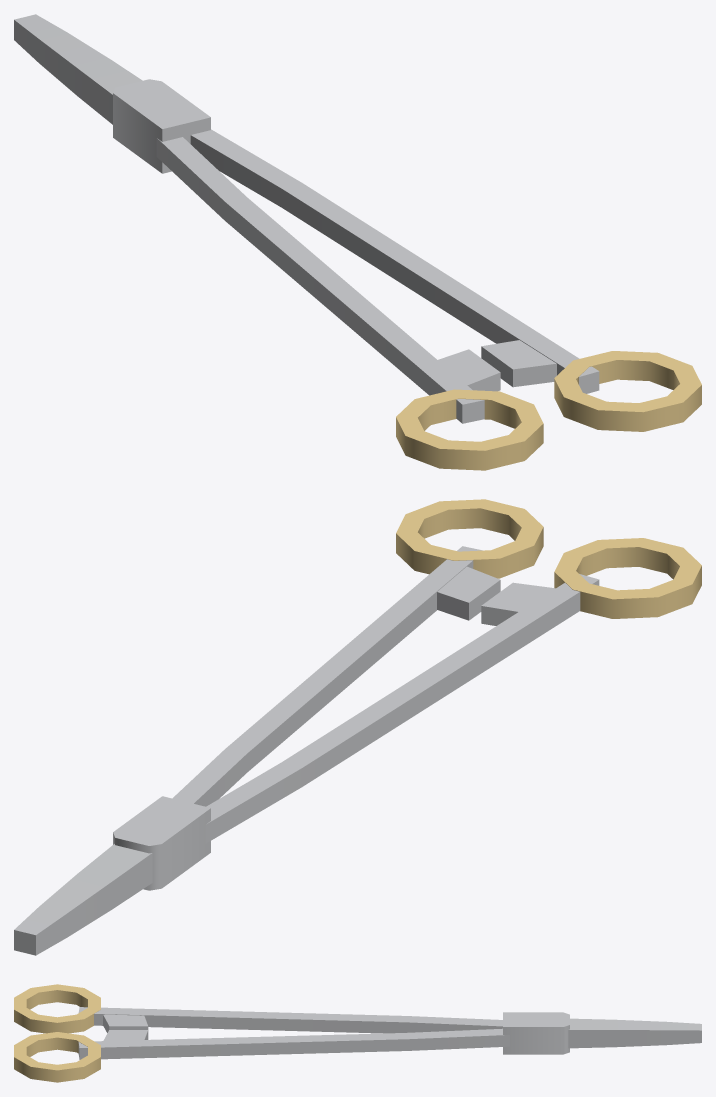
Rendered from s7_mayo_hegar.glb.
3 views of the same model, one above another, from view 1: azimuth 30°, elevation 25°; view 2: azimuth 150°, elevation 25°; view 3: azimuth 270°, elevation 25° (orthographic). The views are drawn at different scales.
Visible parts, largest first — view 1: s7_mayo_hegar; view 2: s7_mayo_hegar; view 3: s7_mayo_hegar.
Boxes of the visible parts, x1,y1,x2,y2 form: s7_mayo_hegar: (14, 14, 701, 470); s7_mayo_hegar: (14, 499, 701, 955); s7_mayo_hegar: (14, 984, 701, 1082).
Size of the model in its own units: 0.0471 by 0.007 by 0.159.
